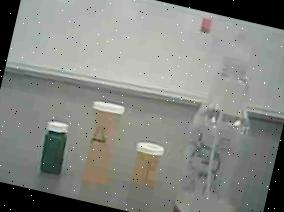Bottle A: (72, 94, 134, 192)
Bottle B: (122, 132, 172, 192)
Bottle C: (33, 114, 82, 180)
hazard: (150, 10, 284, 212)
